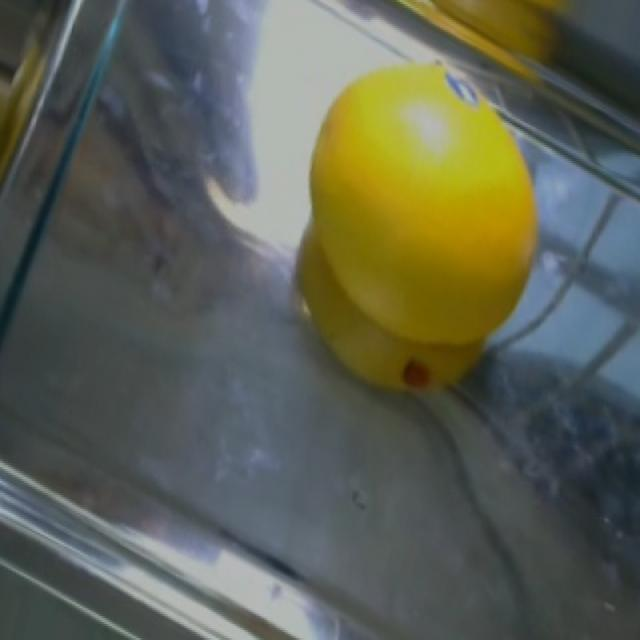Fruit: (269, 38, 562, 419)
